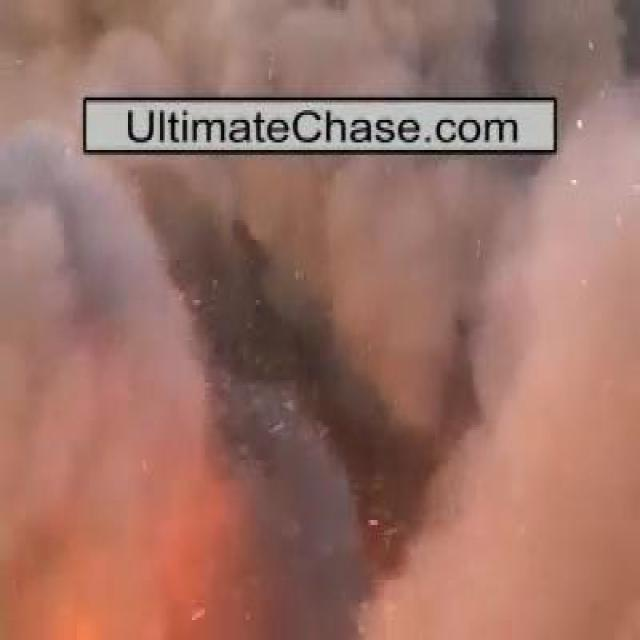Smoke: (14, 166, 596, 596)
